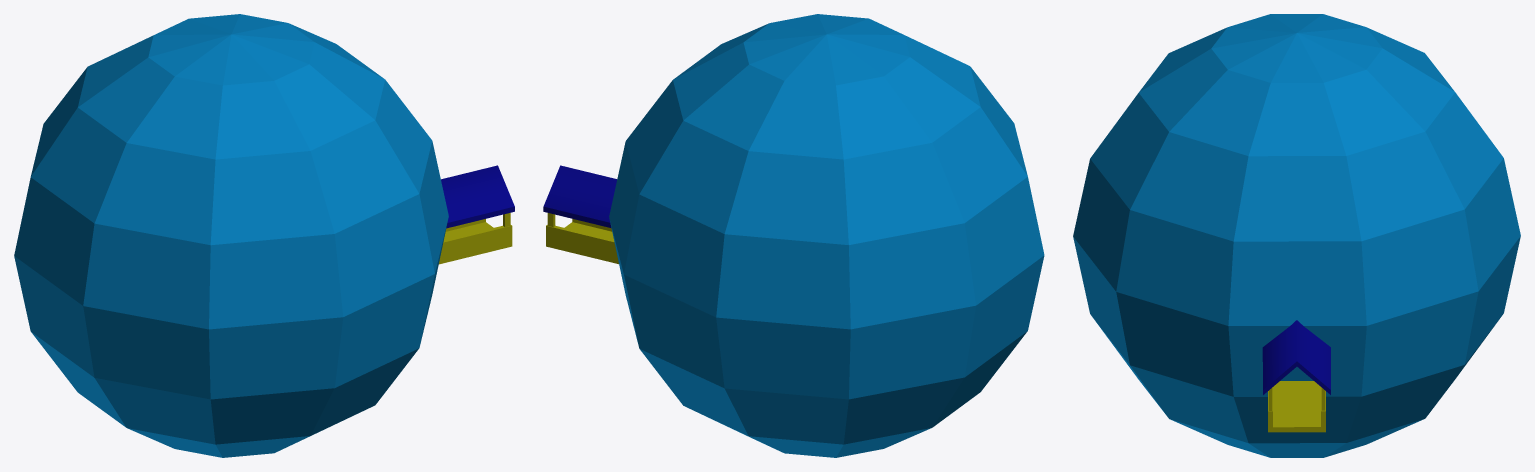
The model's file is planetorium.fbx.
3 views of the same model, side by side, from view 1: azimuth 30°, elevation 25°; view 2: azimuth 150°, elevation 25°; view 3: azimuth 270°, elevation 25° (orthographic).
Visible parts, largest first — view 1: pSphere1, pCube1, pCube2; view 2: pSphere1, pCube1, pCube2; view 3: pSphere1, pCube1, pCube2.
Part boxes in pixels (x1,y1,x2,y2): pSphere1: (14,14,448,457); pCube1: (441,165,514,228); pCube2: (438,213,512,264); pSphere1: (609,14,1044,457); pCube1: (543,165,617,228); pCube2: (546,213,618,264); pSphere1: (1073,14,1520,457); pCube1: (1262,320,1330,394); pCube2: (1268,381,1325,432).
Size of the model in its own units: 18.08 by 15.48 by 15.48.
